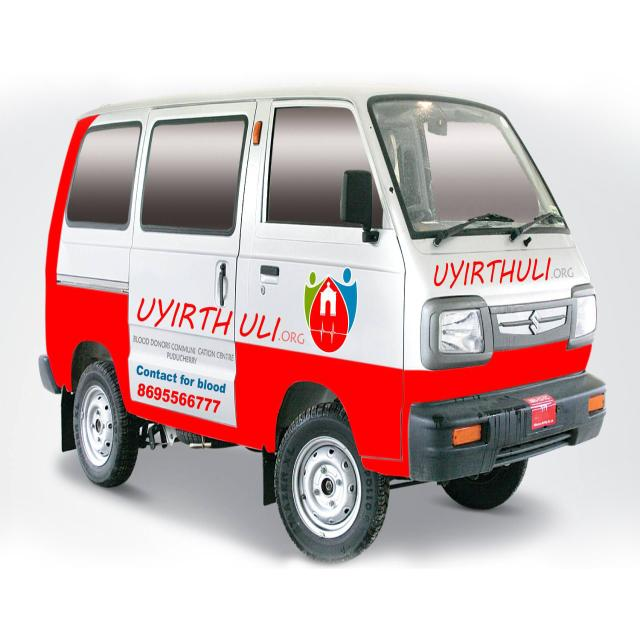ambulance: (32, 66, 586, 533)
